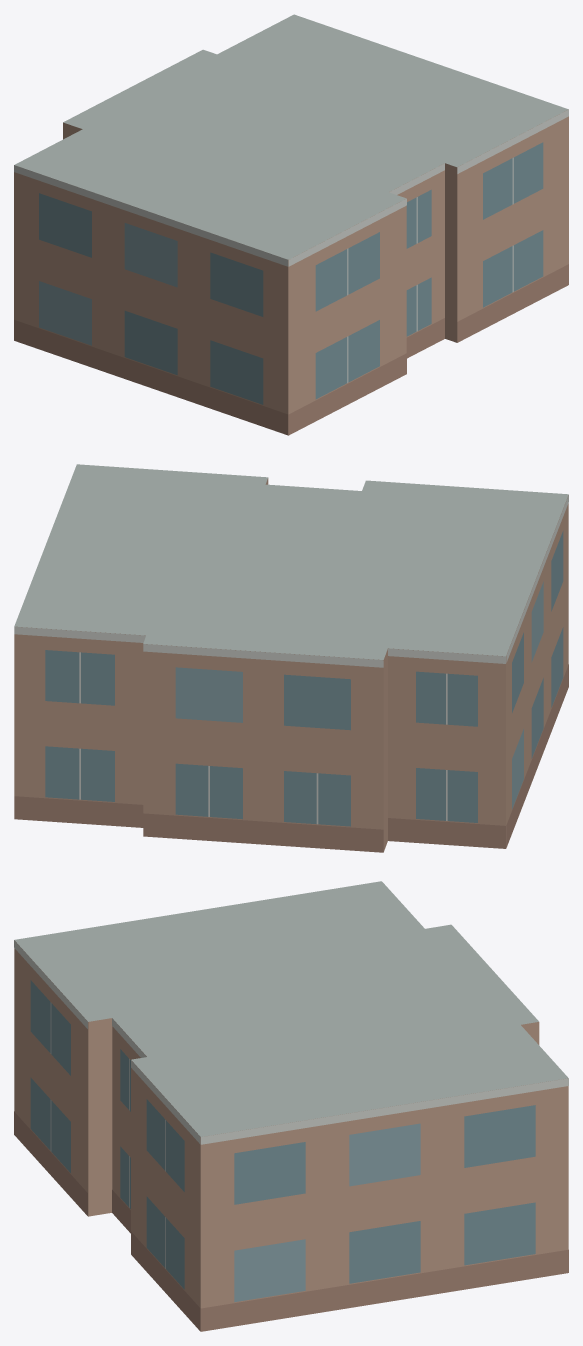
File: survey-upis-33038721.glb
3 renders of one model, top to bottom at view 1: azimuth 30°, elevation 25°; view 2: azimuth 150°, elevation 25°; view 3: azimuth 270°, elevation 25°, orthographic. The views are drawn at different scales.
Parts seen in each view (by area): view 1: survey-upis-33038721.tmp; view 2: survey-upis-33038721.tmp; view 3: survey-upis-33038721.tmp.
Part boxes in pixels (x1,y1,x2,y2): survey-upis-33038721.tmp: [14, 14, 568, 435]; survey-upis-33038721.tmp: [14, 464, 568, 852]; survey-upis-33038721.tmp: [14, 881, 568, 1331].
Size of the model in its own units: 17.2 by 6.1 by 15.76.
